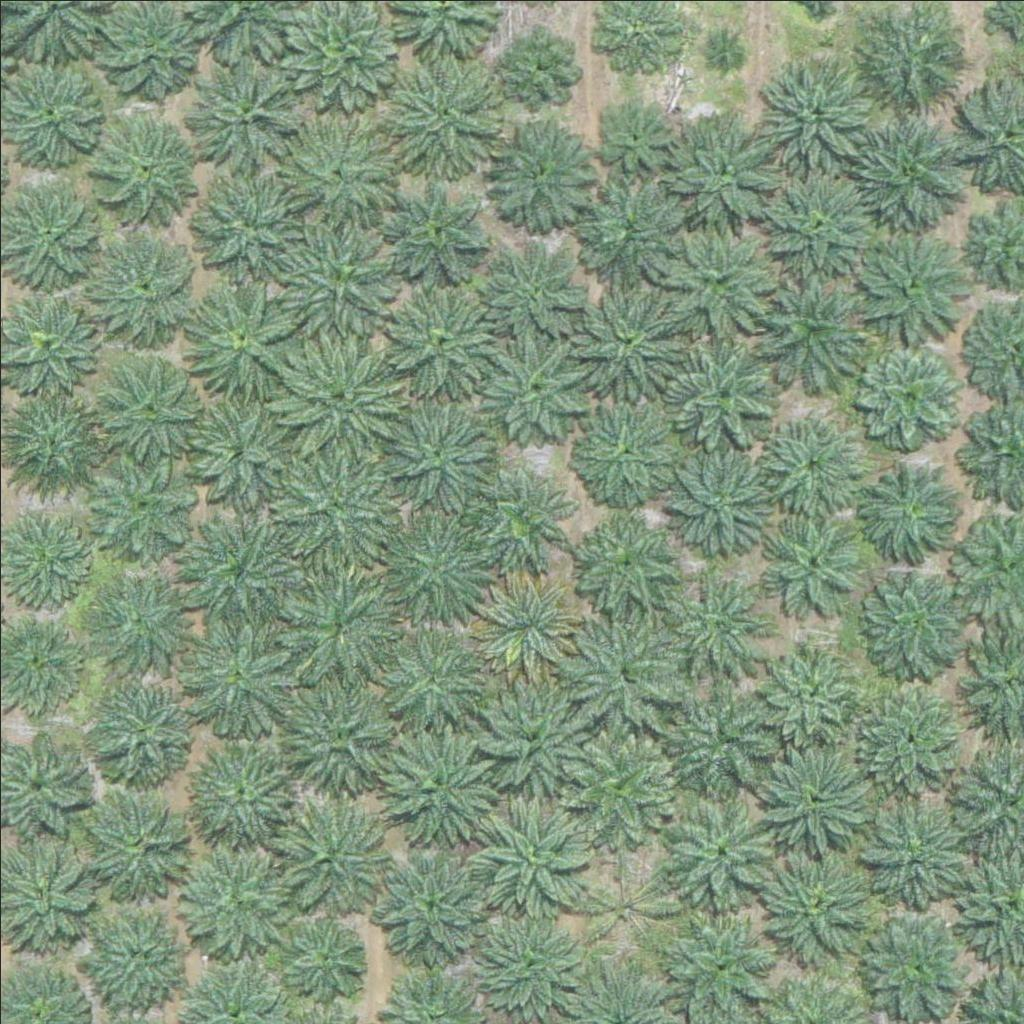Kelapa_Sawit: (744, 264, 869, 390), (277, 559, 402, 685), (271, 440, 396, 566), (277, 338, 402, 463), (761, 168, 874, 282), (851, 223, 964, 337), (178, 734, 291, 848), (272, 800, 385, 914), (186, 619, 299, 733), (373, 847, 486, 961), (853, 338, 966, 452), (90, 231, 203, 344), (181, 281, 294, 394), (191, 176, 304, 289), (194, 58, 307, 171), (488, 112, 601, 225), (570, 284, 683, 397), (584, 183, 697, 296), (763, 60, 876, 173), (850, 118, 963, 231), (859, 3, 972, 116), (95, 354, 208, 467), (181, 395, 294, 508), (179, 514, 292, 627), (286, 676, 399, 789), (385, 731, 498, 844), (668, 683, 781, 796), (660, 791, 773, 904), (664, 908, 777, 1021), (564, 730, 677, 843), (470, 565, 583, 678), (473, 332, 586, 445), (568, 612, 681, 725), (572, 507, 685, 620), (859, 562, 972, 675), (671, 122, 783, 236), (90, 452, 202, 566), (470, 899, 582, 1013), (283, 227, 395, 340), (285, 118, 397, 231), (389, 62, 501, 175), (660, 225, 772, 338), (81, 891, 193, 1004), (84, 783, 196, 896), (181, 844, 293, 957), (374, 621, 486, 734), (384, 512, 496, 625), (384, 401, 496, 514), (385, 289, 497, 402), (858, 910, 970, 1023), (753, 852, 865, 965), (757, 745, 869, 858), (478, 681, 590, 794), (477, 803, 589, 916), (661, 567, 773, 680), (665, 335, 777, 448), (574, 855, 674, 956), (90, 124, 190, 225), (387, 177, 487, 278), (854, 691, 954, 792), (858, 805, 958, 906), (757, 637, 857, 738), (575, 399, 675, 500), (668, 454, 768, 555), (760, 505, 860, 606), (94, 683, 194, 783), (88, 572, 188, 672), (759, 413, 859, 513), (855, 459, 955, 559), (478, 474, 565, 563), (491, 243, 578, 331), (500, 29, 575, 105), (602, 96, 677, 172), (291, 919, 366, 995), (700, 33, 738, 71)
